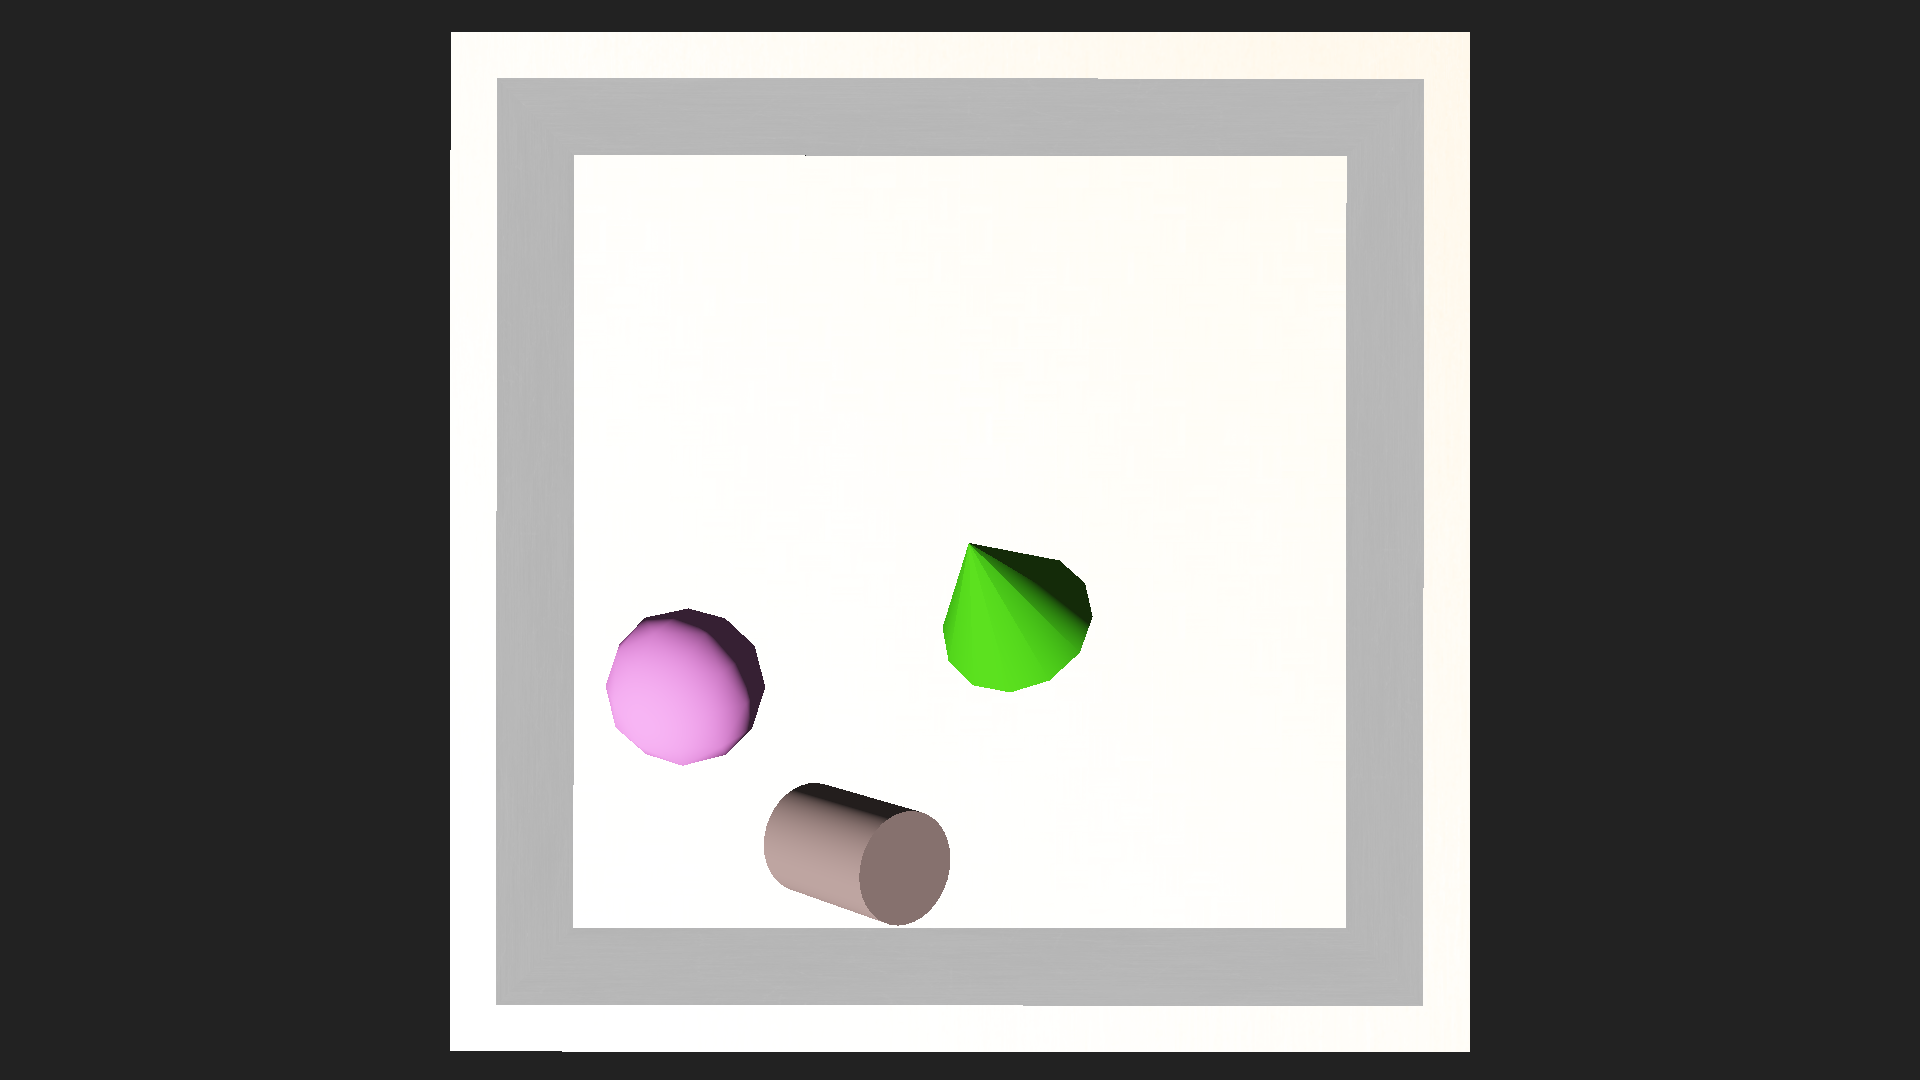cone: (752, 778, 949, 931)
cylinder: (872, 450, 1116, 720)
sphere: (605, 605, 765, 765)
